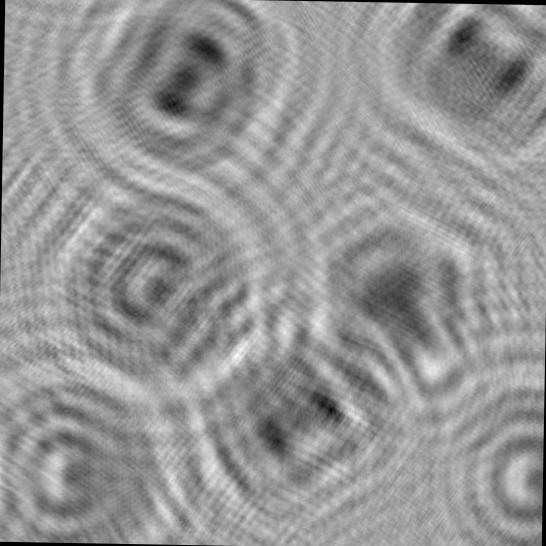A: (270, 176, 532, 454)
B: (29, 0, 323, 235)
C: (0, 341, 204, 545), (398, 342, 545, 546)
D: (14, 150, 287, 418)
E: (173, 293, 436, 546), (337, 1, 546, 212)
